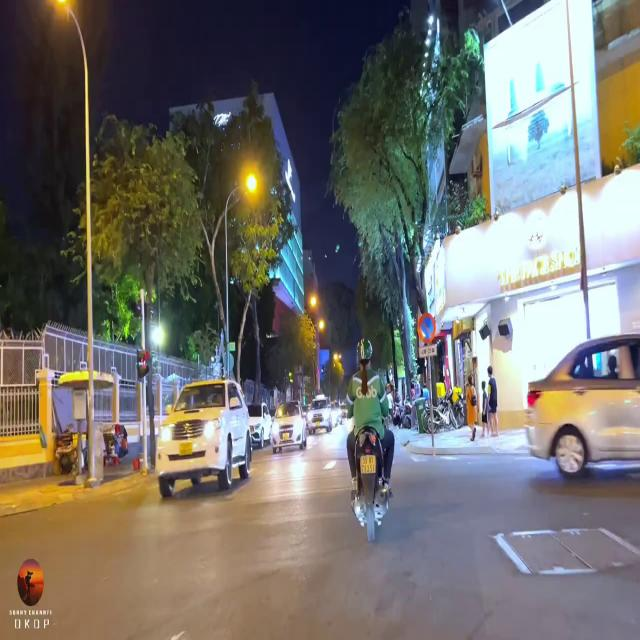bien_trang: (359, 452, 377, 478)
